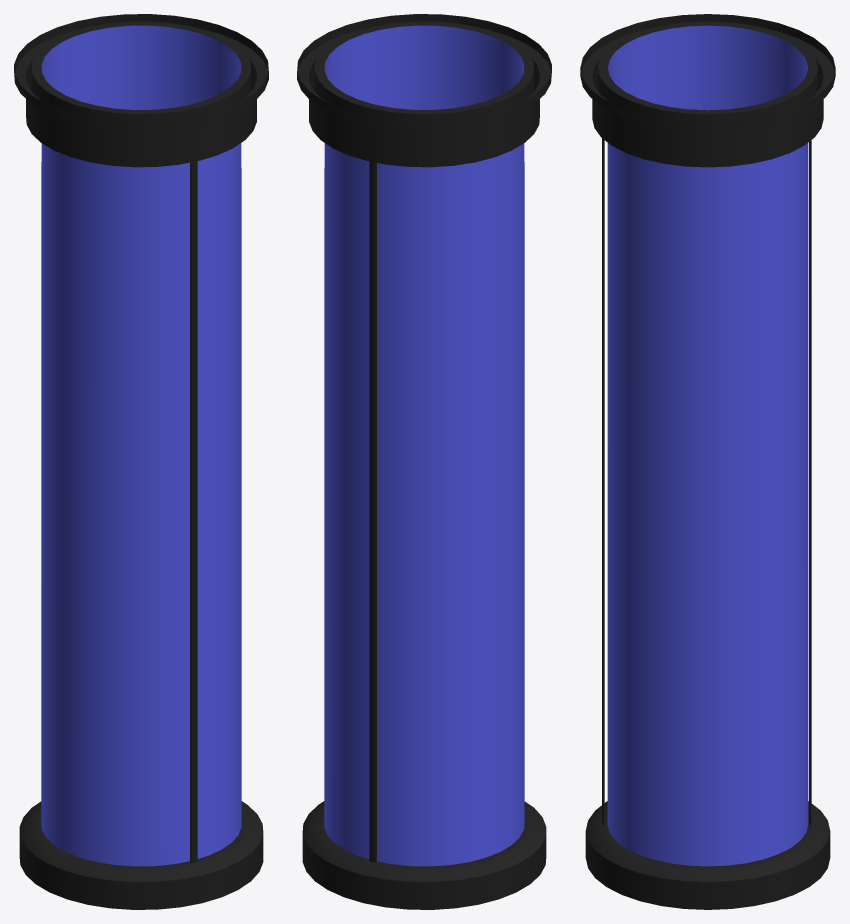
Rendered from Column02.FBX.
3 renders of one model, left to right at view 1: azimuth 30°, elevation 25°; view 2: azimuth 150°, elevation 25°; view 3: azimuth 270°, elevation 25°, orthographic.
Visible parts, largest first — view 1: Column02; view 2: Column02; view 3: Column02.
Boxes of the visible parts, x1,y1,x2,y2 form: Column02: (14,14,268,909); Column02: (297,14,551,909); Column02: (580,14,835,909).
Size of the model in its own units: 102 by 350 by 102.
